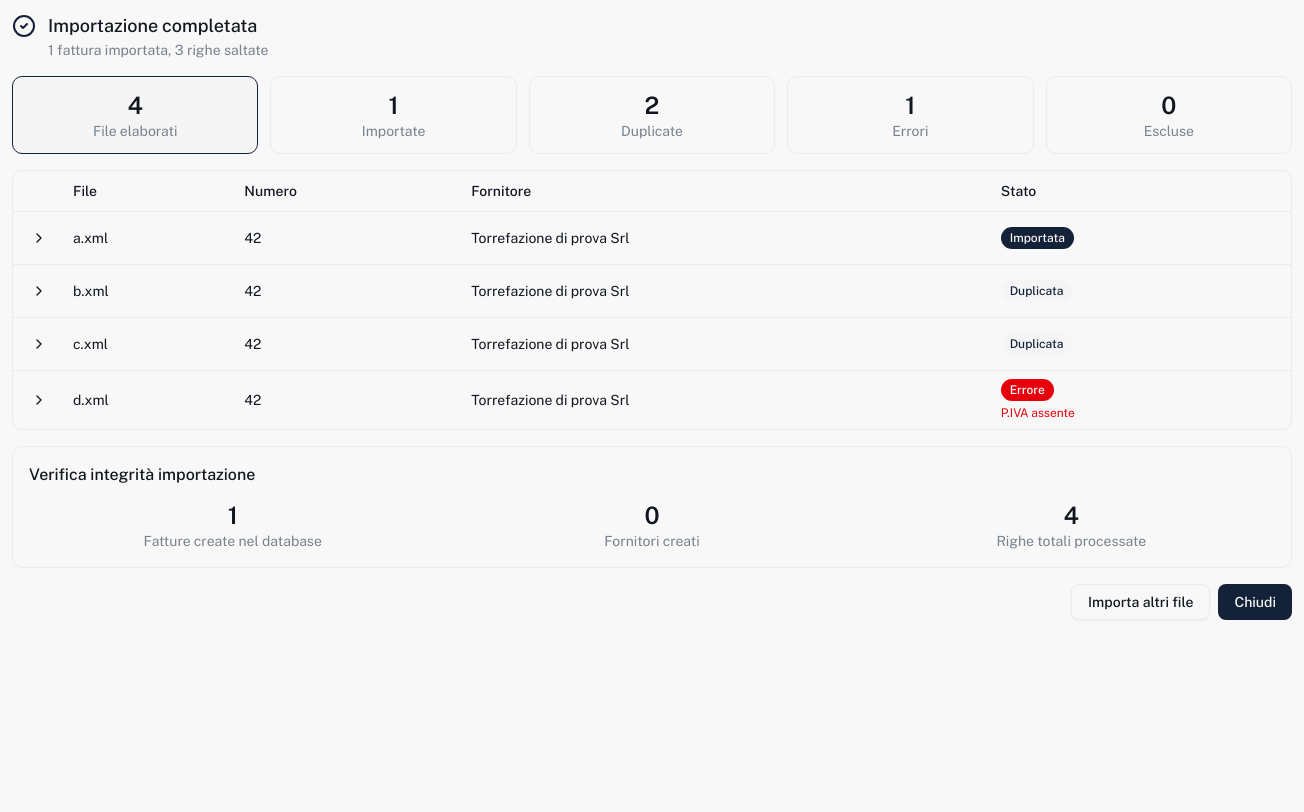
Scenario: RiepilogoFinale › filtra la tabella quando si preme un contatore
Click the button "2 Duplicate": x=652, y=115 x1=529 y1=76 x2=775 y2=154
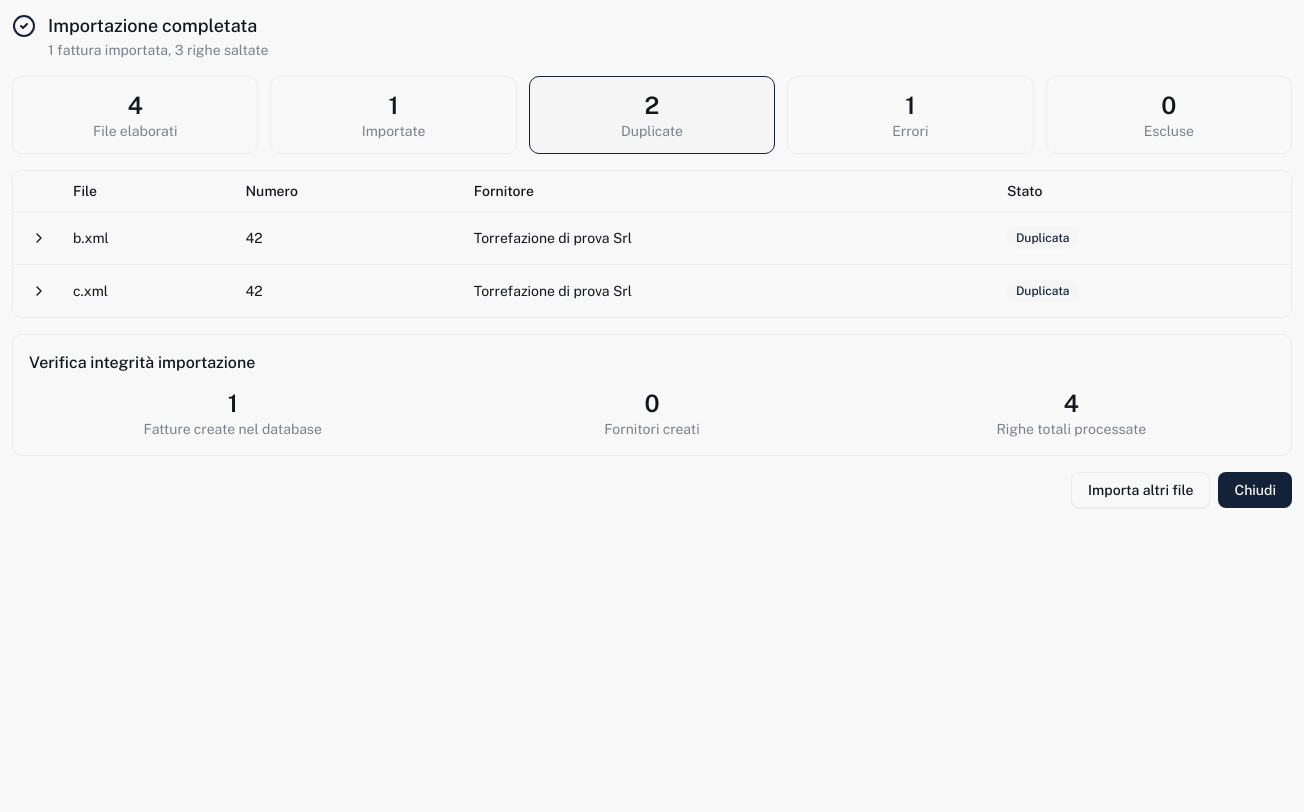
Expected: the text "b.xml" is shown, x1=65 y1=211 x2=238 y2=264
Result: the text "a.xml" is gone
